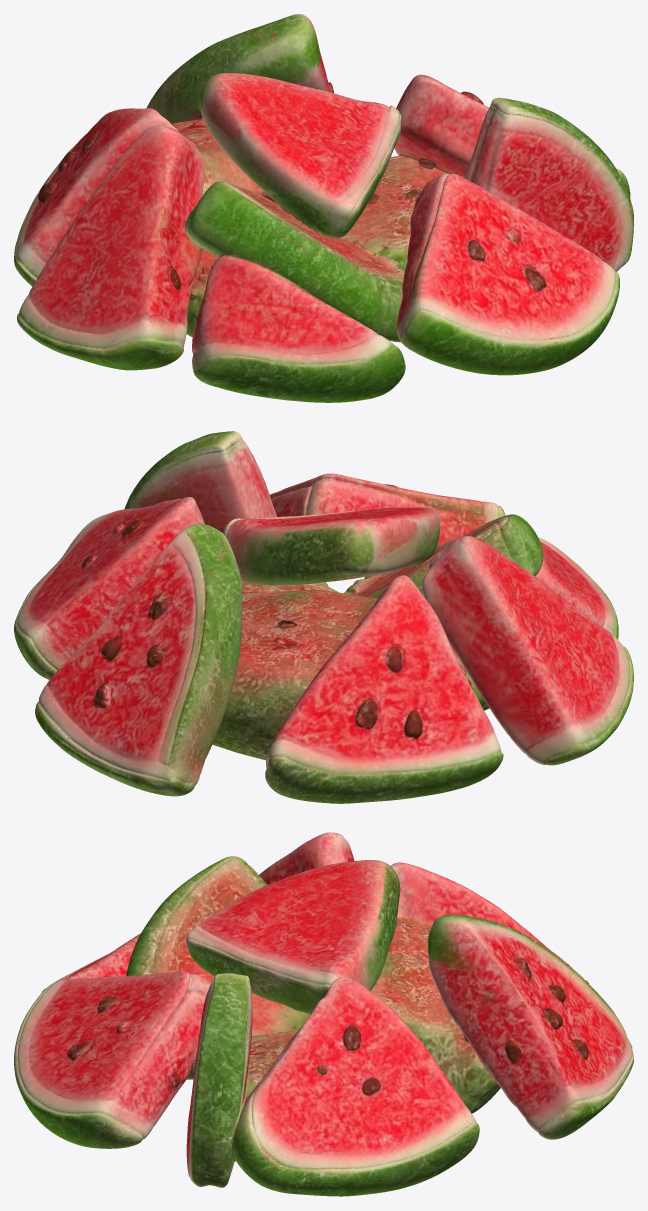
Rendered from gomitas.glb.
3 views of the same model, one above another, from view 1: azimuth 30°, elevation 25°; view 2: azimuth 150°, elevation 25°; view 3: azimuth 270°, elevation 25° (orthographic). The views are drawn at different scales.
Visible parts, largest first — view 1: Mesh_0; view 2: Mesh_0; view 3: Mesh_0.
Boxes of the visible parts, left/top/right/bottom form: Mesh_0: left=14, top=14, right=633, bottom=402; Mesh_0: left=14, top=431, right=633, bottom=803; Mesh_0: left=14, top=832, right=633, bottom=1196.
Size of the model in its own units: 1.89 by 0.6476 by 1.9.
1 material, 1 textured.
